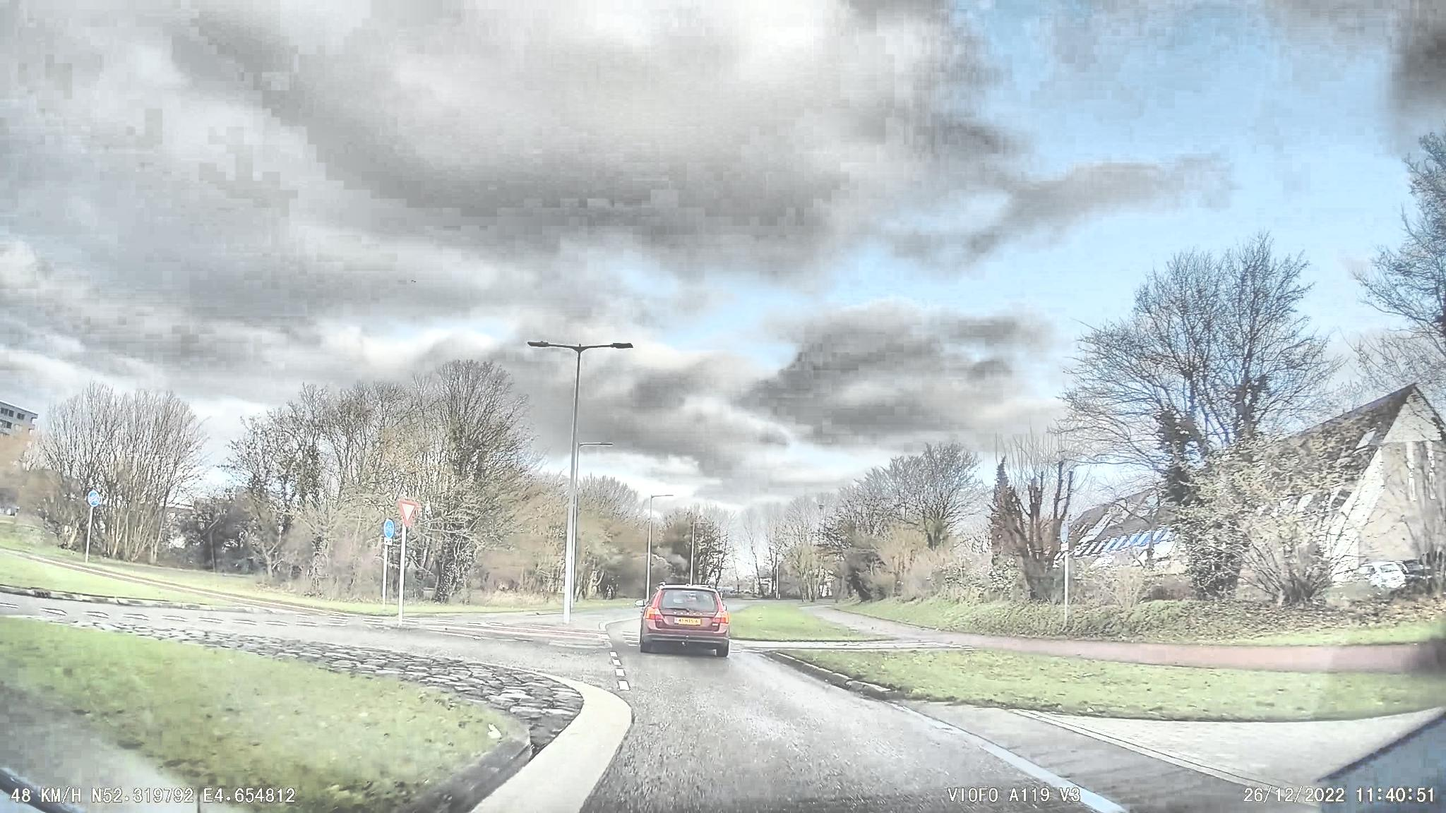Roads: (225, 626, 1446, 813)
